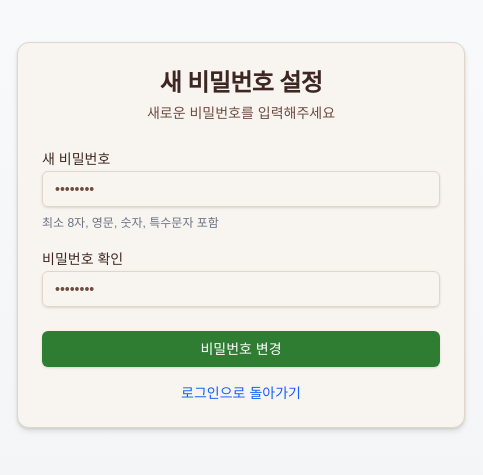
Test: UpdatePasswordPage › 비밀번호 유효성 검증 › 영문자가 없으면 에러 메시지를 표시한다
Type "12345678!" into the password field labelled "새 비밀번호" at (241, 189), box x1=42 y1=171 x2=440 y2=207
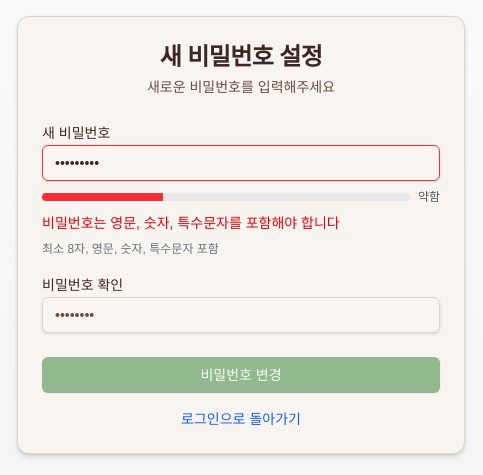
Expected: the text "비밀번호는 영문, 숫자, 특수문자를 포함해야 합니다" is shown, x1=42 y1=215 x2=340 y2=231
